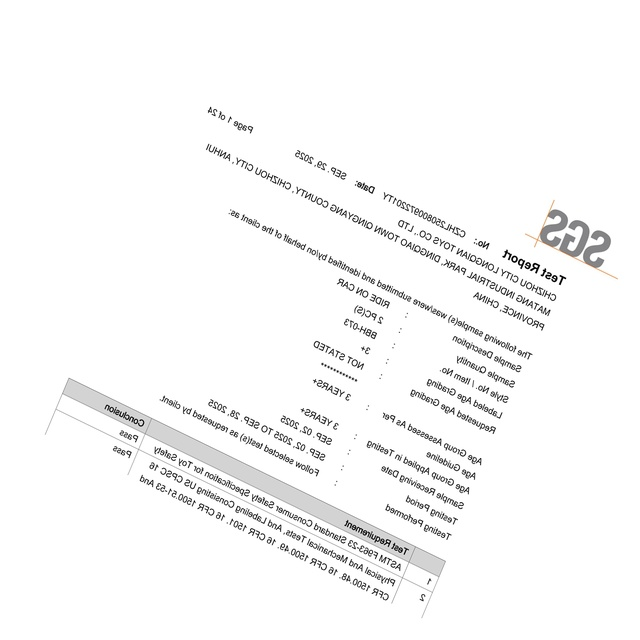sgs: (539, 205, 612, 271)
